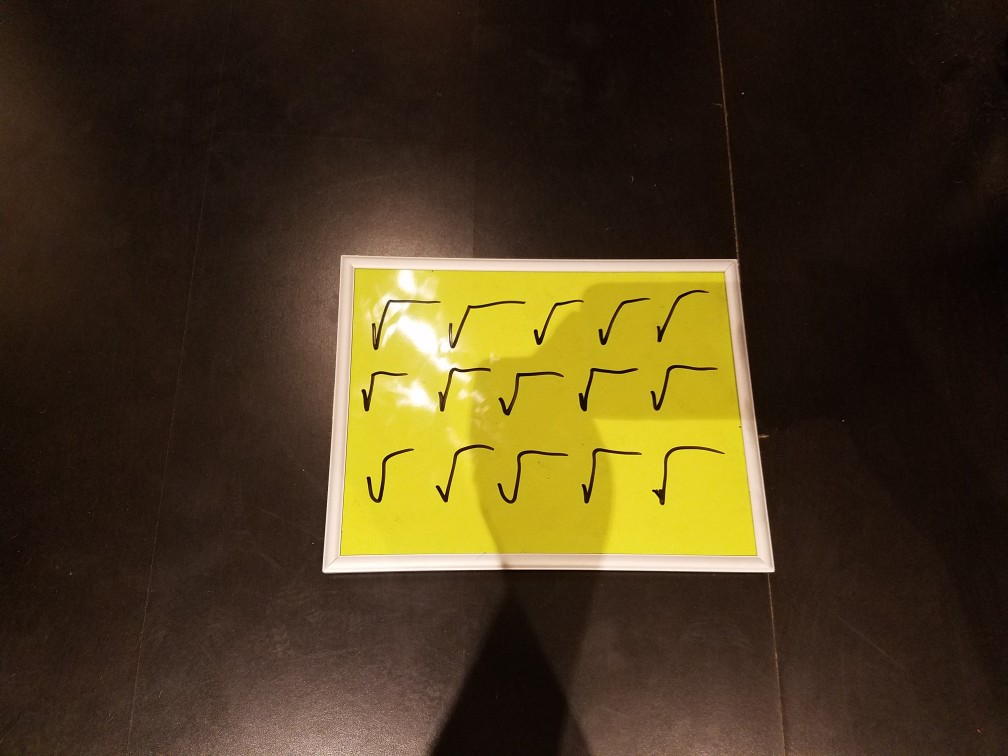sqrt: (359, 286, 442, 362), (652, 434, 723, 520), (428, 430, 497, 515), (497, 438, 568, 518), (579, 436, 645, 517), (446, 287, 524, 351), (642, 359, 724, 418), (497, 360, 570, 426), (647, 280, 716, 342), (418, 359, 491, 416), (358, 439, 416, 509), (526, 288, 589, 350), (573, 354, 633, 418), (594, 292, 652, 354), (352, 364, 415, 420)
